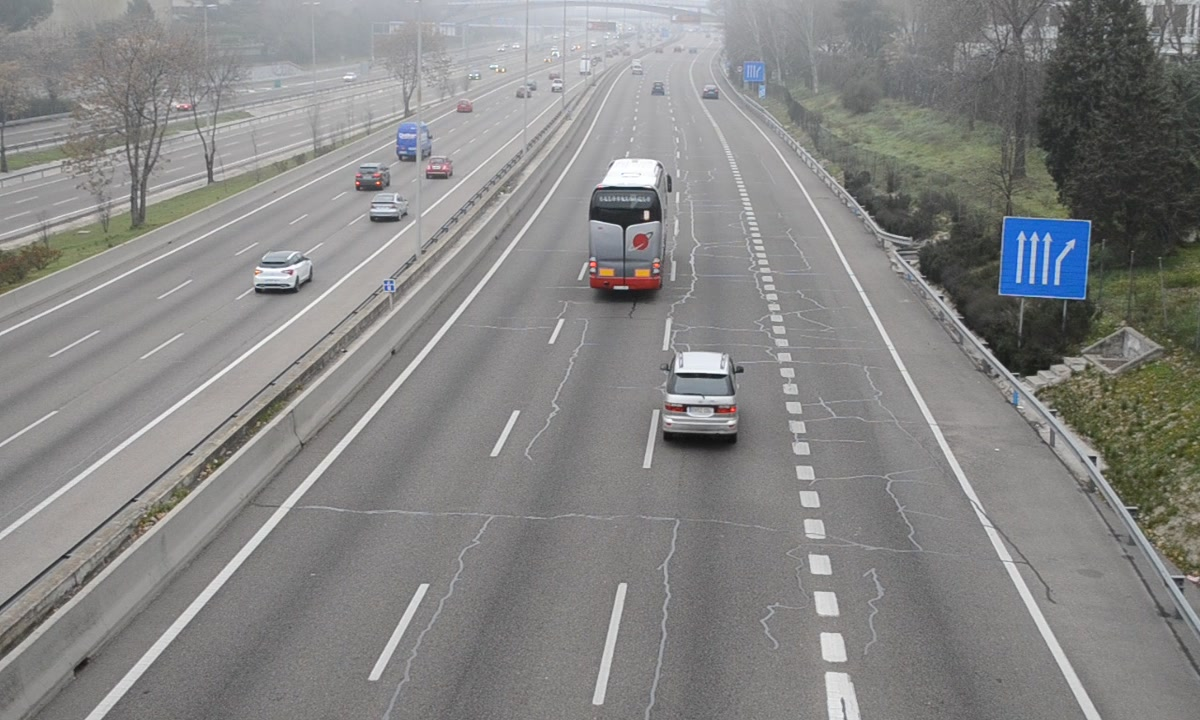bus: (588, 159, 670, 293)
car: (659, 352, 741, 439)
